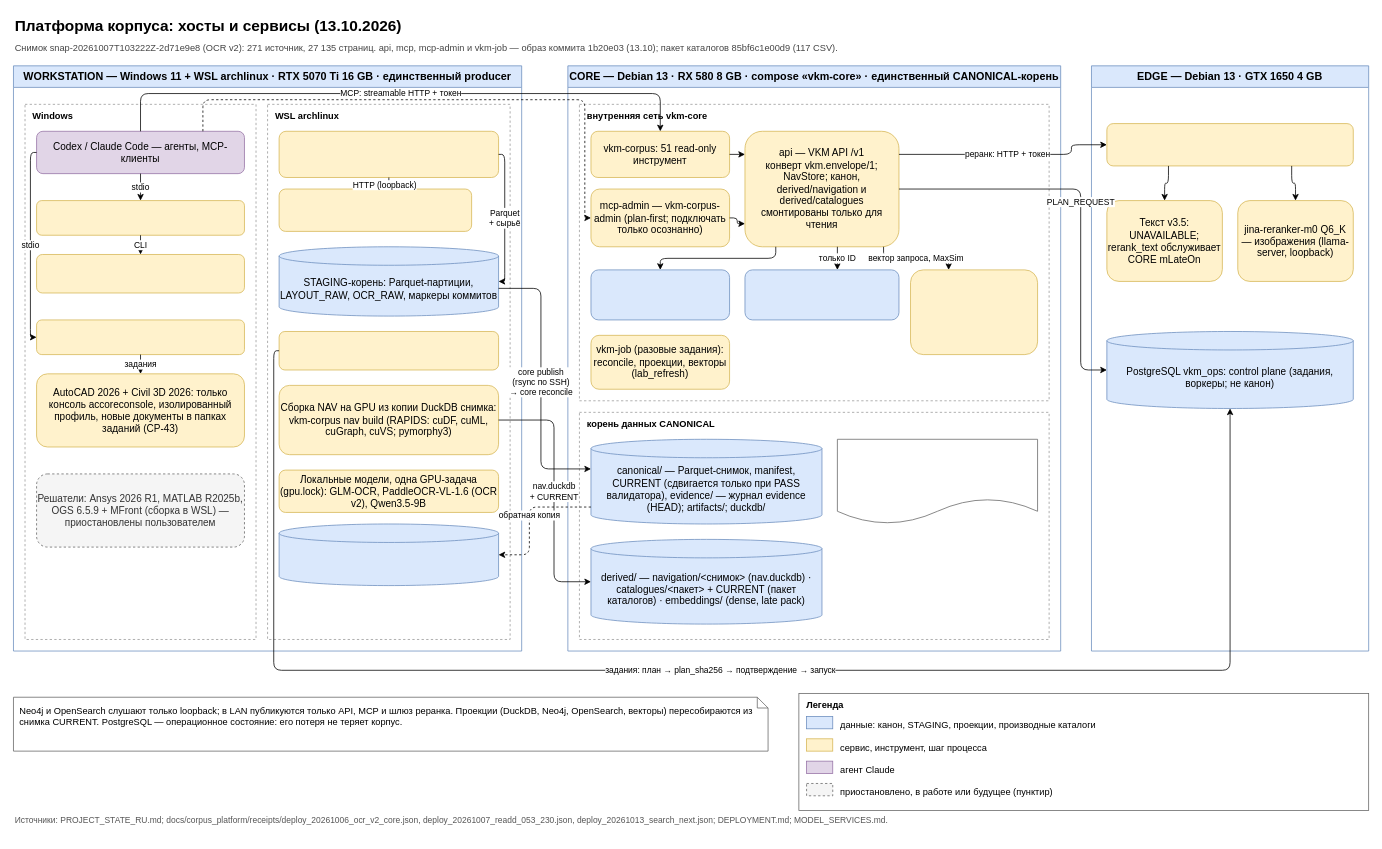
The diagram is 1382 pixels wide and 849 high, and some of its shapes have lost their labels. The centre of each missing label's shape, as x and y in pixels:
CORE: jina-v5-nano Q8 + mLateOn Q8 + Qwen3-VL F16; late pack float16: the point at 974,312
draw.io Desktop (CLI: экспорт, раскладка): the point at 140,273
GLM-OCR: vLLM в Docker Desktop (GPU, только loopback): the point at 375,209
neo4j 5.26: DOCUMENT + NAV (только loopback): the point at 660,294
OpenSearch 3.8: BM25, dense, page-visual: the point at 821,294
receipts/ — квитанции reconcile, проекций, NAV, lab_refresh, ночных проверок: the point at 937,481
vkm-cad 1.0: stdio MCP, 27 инструментов: the point at 140,337
vkm-drawio: stdio MCP, 8 инструментов: the point at 140,217
vkm-rerank-gateway (LAN, токен из *_FILE): the point at 1229,144
Воркер заданий (единственный планировщик plan-first): the point at 388,350
Конвейер корпуса (vkm-corpus run): извлечение, рендер, разметка PP-DocLayoutV3: the point at 388,154
Обратная копия канона и KEEP_RAW: the point at 388,554
